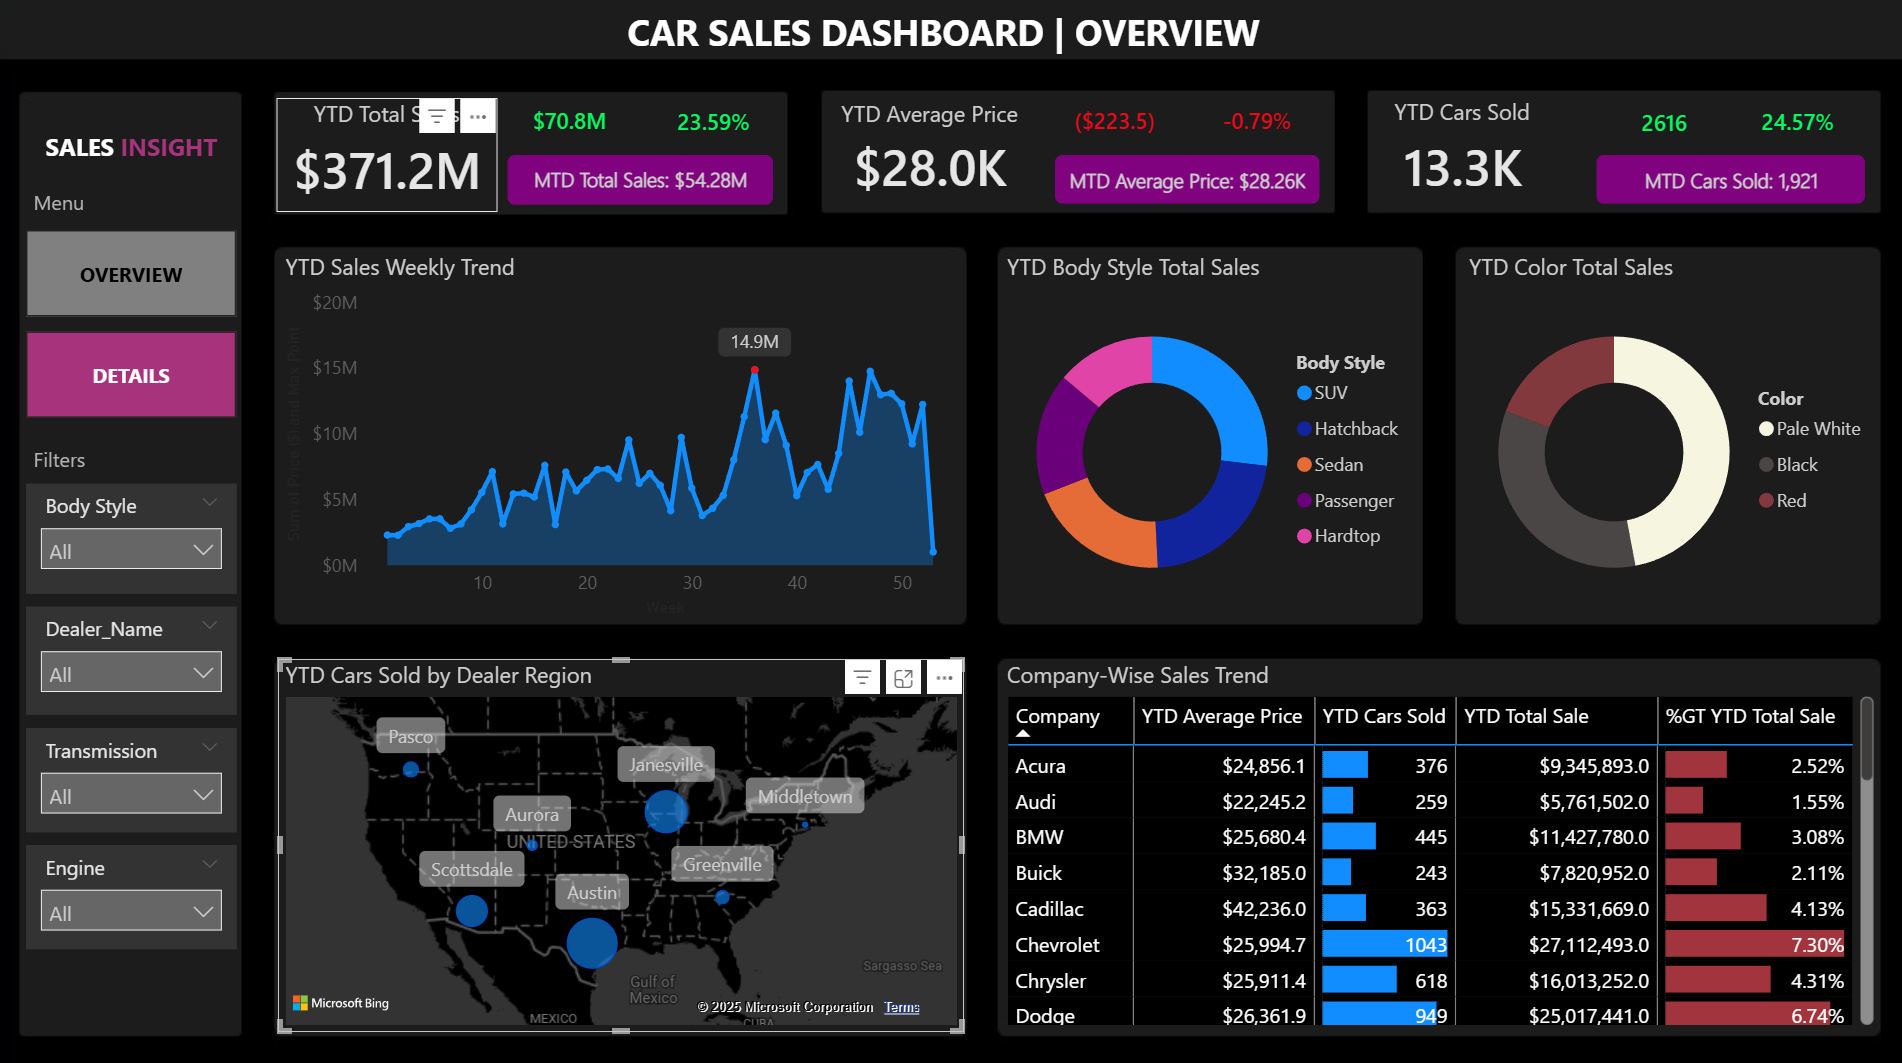

This screenshot's page, from the dashboard's own definition file:
{"tool":"powerbi","page":{"name":"OVERVIEW","canvas":[1280,720],"ordinal":0},"visuals":[{"type":"card","title":"YTD Total Sales","fields":{"Values":["Car sale.YTD Total Sale"]},"box":[188.1,66.4,147.8,76.4],"z":0},{"type":"card","fields":{"Values":["Car sale.Sale Difference"]},"box":[335.9,63.4,96.6,40.2],"z":1000},{"type":"card","fields":{"Values":["Car sale.YOY Sale Growth"]},"box":[432.5,63.4,96.6,41.2],"z":2000},{"type":"card","fields":{"Values":["Car sale.MTD KPI"]},"box":[343,104.6,178,33],"z":3000},{"type":"card","title":"YTD Average Price","fields":{"Values":["Car sale.YTD Average Price"]},"box":[554.3,66,143.5,72.3],"z":4000},{"type":"card","fields":{"Values":["Car sale.Average Price Difference"]},"box":[699.9,62.9,99.5,39.8],"z":5000},{"type":"card","fields":{"Values":["Car sale.YOY Average Price Growth"]},"box":[799.4,63.9,91.2,38.8],"z":6000},{"type":"card","fields":{"Values":["Car sale.MTD Avg Price KPI"]},"box":[710.4,104.8,177.1,32.5],"z":7000},{"type":"card","title":"YTD Cars Sold","fields":{"Values":["Car sale.YTD Cars Sold"]},"box":[908.4,65,149.8,74.4],"z":8000},{"type":"card","fields":{"Values":["Car sale.Cars Sold Difference"]},"box":[1072.9,66,90.1,36.7],"z":9000},{"type":"card","fields":{"Values":["Car sale.YOY Cars Sold Growth"]},"box":[1163,63.9,90.1,39.8],"z":10000},{"type":"card","fields":{"Values":["Car sale.MTD Cars Sold KPI"]},"box":[1072.9,104.8,180.2,32.5],"z":11000},{"type":"areaChart","title":"YTD Sales Weekly Trend","fields":{"Category":["Calendar Table.Week"],"Y":["Car sale.Price ($)","Car sale.Max Point"]},"box":[188.6,168.7,461,249.4],"z":12000},{"type":"donutChart","title":"YTD Body Style Total Sales","fields":{"Category":["Car sale.Body Style"],"Y":["Car sale.Price ($)"]},"box":[673,168.9,281.8,249],"z":13000},{"type":"donutChart","title":"YTD Color Total Sales","fields":{"Category":["Car sale.Color"],"Y":["Car sale.YTD Total Sale"]},"box":[982.8,168.9,281.8,249],"z":14000},{"type":"map","title":"YTD Cars Sold by Dealer Region","fields":{"Category":["Car sale.Dealer_Region"],"Size":["Car sale.YTD Cars Sold"]},"box":[188.8,442.5,460,250],"z":15000},{"type":"tableEx","title":"Company-Wise Sales Trend","fields":{"Values":["Car sale.Company","Car sale.YTD Average Price","Car sale.YTD Cars Sold","Car sale.YTD Total Sale","Divide(Car sale.YTD Total Sale, ScopedEval(Car sale.YTD Total Sale, []))"]},"box":[672.5,442.5,591.2,250],"z":16000},{"type":"textbox","box":[418.8,0,490,48.8],"z":17000},{"type":"slicer","fields":{"Values":["Car sale.Body Style"]},"box":[20,325,141.2,73.8],"z":18000},{"type":"slicer","fields":{"Values":["Car sale.Dealer_Name"]},"box":[20,407.5,141.2,72.5],"z":19000},{"type":"slicer","fields":{"Values":["Car sale.Transmission"]},"box":[20,488.8,141.2,70],"z":20000},{"type":"slicer","fields":{"Values":["Car sale.Engine"]},"box":[20,567.5,141.2,70],"z":21000},{"type":"textbox","box":[20,293.8,141.2,31.2],"z":22000},{"type":"textbox","box":[20,82.5,141.2,38.8],"z":23000},{"type":"textbox","box":[20,121.2,141.2,33.8],"z":24000},{"type":"pageNavigator","box":[20,155,141.2,127.5],"z":25000}]}

Visuals, with their boxes on the page's 1280x720 design canvas (x1, y1, x2, y2). These are canvas units, not pixel positions in the 1902x1063 screenshot, which may show the page scaled, cropped or inside an application window:
"YTD Total Sales" card: pyautogui.locateOnScreen(188, 66, 336, 143)
card - Car sale.Sale Difference: pyautogui.locateOnScreen(336, 63, 432, 104)
card - Car sale.YOY Sale Growth: pyautogui.locateOnScreen(432, 63, 529, 105)
card - Car sale.MTD KPI: pyautogui.locateOnScreen(343, 105, 521, 138)
"YTD Average Price" card: pyautogui.locateOnScreen(554, 66, 698, 138)
card - Car sale.Average Price Difference: pyautogui.locateOnScreen(700, 63, 799, 103)
card - Car sale.YOY Average Price Growth: pyautogui.locateOnScreen(799, 64, 891, 103)
card - Car sale.MTD Avg Price KPI: pyautogui.locateOnScreen(710, 105, 888, 137)
"YTD Cars Sold" card: pyautogui.locateOnScreen(908, 65, 1058, 139)
card - Car sale.Cars Sold Difference: pyautogui.locateOnScreen(1073, 66, 1163, 103)
card - Car sale.YOY Cars Sold Growth: pyautogui.locateOnScreen(1163, 64, 1253, 104)
card - Car sale.MTD Cars Sold KPI: pyautogui.locateOnScreen(1073, 105, 1253, 137)
"YTD Sales Weekly Trend" areaChart: pyautogui.locateOnScreen(189, 169, 650, 418)
"YTD Body Style Total Sales" donutChart: pyautogui.locateOnScreen(673, 169, 955, 418)
"YTD Color Total Sales" donutChart: pyautogui.locateOnScreen(983, 169, 1265, 418)
"YTD Cars Sold by Dealer Region" map: pyautogui.locateOnScreen(189, 442, 649, 692)
"Company-Wise Sales Trend" tableEx: pyautogui.locateOnScreen(672, 442, 1264, 692)
textbox: pyautogui.locateOnScreen(419, 0, 909, 49)
slicer - Car sale.Body Style: pyautogui.locateOnScreen(20, 325, 161, 399)
slicer - Car sale.Dealer_Name: pyautogui.locateOnScreen(20, 408, 161, 480)
slicer - Car sale.Transmission: pyautogui.locateOnScreen(20, 489, 161, 559)
slicer - Car sale.Engine: pyautogui.locateOnScreen(20, 568, 161, 638)
textbox: pyautogui.locateOnScreen(20, 294, 161, 325)
textbox: pyautogui.locateOnScreen(20, 82, 161, 121)
textbox: pyautogui.locateOnScreen(20, 121, 161, 155)
pageNavigator: pyautogui.locateOnScreen(20, 155, 161, 282)
